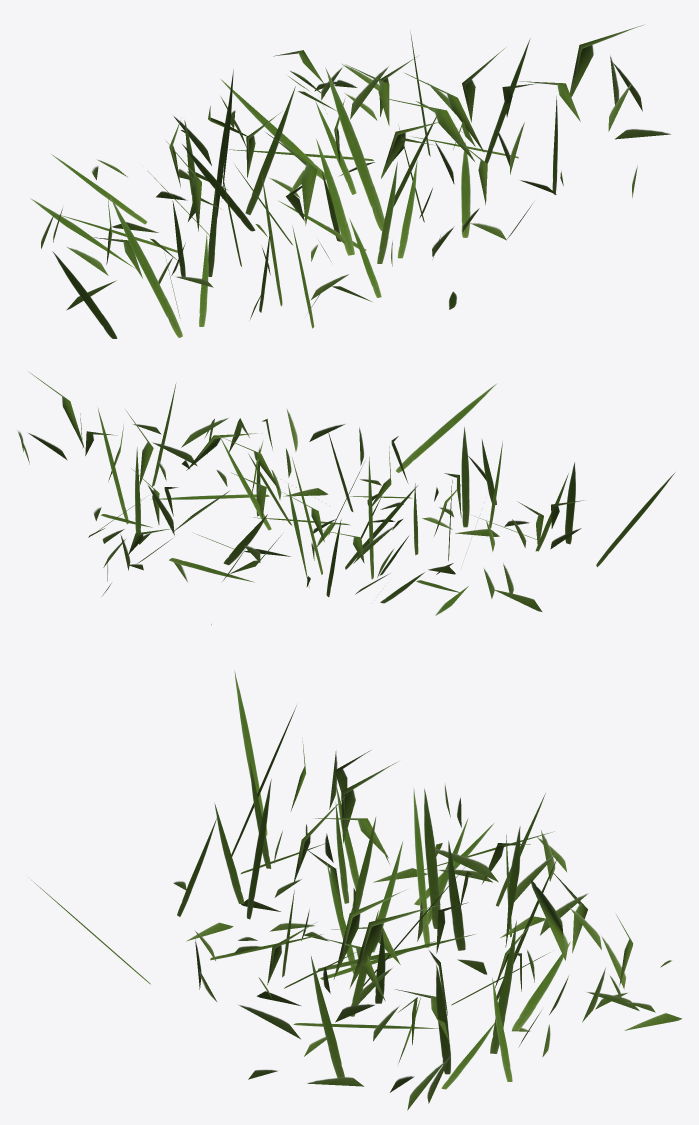
File: Tuft_Dead.glb
The picture shows the model from 3 angles, top to bottom: view 1: azimuth 30°, elevation 25°; view 2: azimuth 150°, elevation 25°; view 3: azimuth 270°, elevation 25°; orthographic projection. The views are drawn at different scales.
Visible parts, largest first — view 1: Tuft_Dead; view 2: Tuft_Dead; view 3: Tuft_Dead.
Part boxes in pixels (<box>): Tuft_Dead: <box>30,24,670,338</box>; Tuft_Dead: <box>17,371,675,624</box>; Tuft_Dead: <box>28,670,682,1110</box>.
Bounding box in the file's own units: 0.9133 × 0.212 × 0.7187.
1 material, 1 textured.
